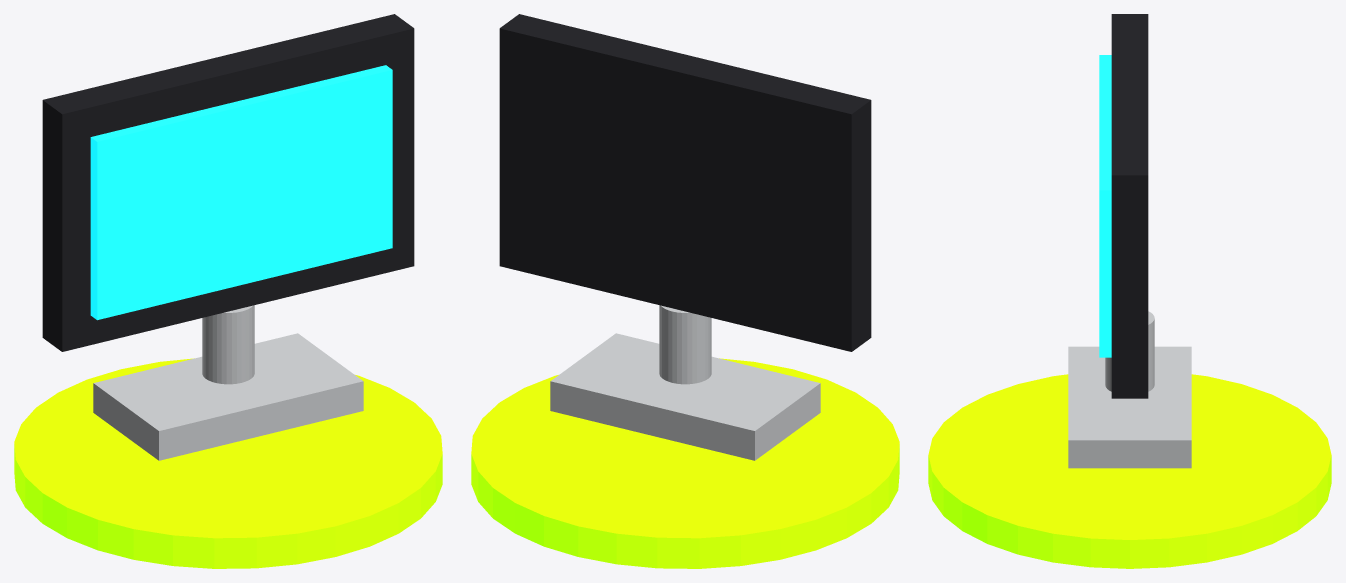
Rendered from tech_monitor.glb.
3 renders of one model, left to right at view 1: azimuth 30°, elevation 25°; view 2: azimuth 150°, elevation 25°; view 3: azimuth 270°, elevation 25°, orthographic. The views are drawn at different scales.
Parts seen in each view (by area): view 1: 08_13_Popular_Tech_Monitor_part_02, 08_13_Popular_Tech_Monitor_ROOT_base, 08_13_Popular_Tech_Monitor_part_01, 08_13_Popular_Tech_Monitor_part_04, 08_13_Popular_Tech_Monitor_part_03; view 2: 08_13_Popular_Tech_Monitor_part_01, 08_13_Popular_Tech_Monitor_ROOT_base, 08_13_Popular_Tech_Monitor_part_04, 08_13_Popular_Tech_Monitor_part_03; view 3: 08_13_Popular_Tech_Monitor_ROOT_base, 08_13_Popular_Tech_Monitor_part_01, 08_13_Popular_Tech_Monitor_part_04, 08_13_Popular_Tech_Monitor_part_02, 08_13_Popular_Tech_Monitor_part_03.
Part boxes in pixels (<box>): 08_13_Popular_Tech_Monitor_part_02: <box>90,65,392,320</box>; 08_13_Popular_Tech_Monitor_ROOT_base: <box>14,358,442,568</box>; 08_13_Popular_Tech_Monitor_part_01: <box>42,14,414,351</box>; 08_13_Popular_Tech_Monitor_part_04: <box>93,333,363,460</box>; 08_13_Popular_Tech_Monitor_part_03: <box>202,305,254,384</box>; 08_13_Popular_Tech_Monitor_part_01: <box>499,14,871,351</box>; 08_13_Popular_Tech_Monitor_ROOT_base: <box>471,358,899,568</box>; 08_13_Popular_Tech_Monitor_part_04: <box>550,333,820,460</box>; 08_13_Popular_Tech_Monitor_part_03: <box>659,305,711,384</box>; 08_13_Popular_Tech_Monitor_ROOT_base: <box>928,374,1331,568</box>; 08_13_Popular_Tech_Monitor_part_01: <box>1111,14,1148,398</box>; 08_13_Popular_Tech_Monitor_part_04: <box>1068,346,1191,468</box>; 08_13_Popular_Tech_Monitor_part_02: <box>1099,55,1111,357</box>; 08_13_Popular_Tech_Monitor_part_03: <box>1105,311,1154,391</box>.
Size of the model in its own units: 0.76 by 0.8094 by 0.76.
